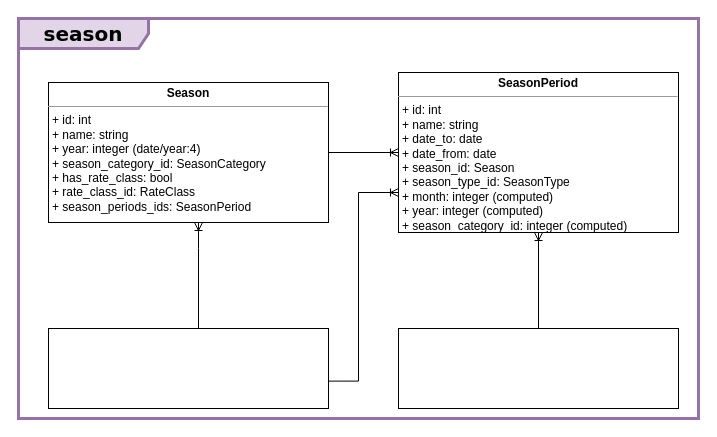
Some shapes in this 717 by 437 pixel diagram are drawn without their labels. Here are the shapes that lost their labels. From the top down, the box of each, then its label:
(48, 328, 328, 408): SeasonCategory + id: int + name: string + seasons_ids: Season
(398, 328, 678, 408): SeasonType + id: int + name: string + description: string
